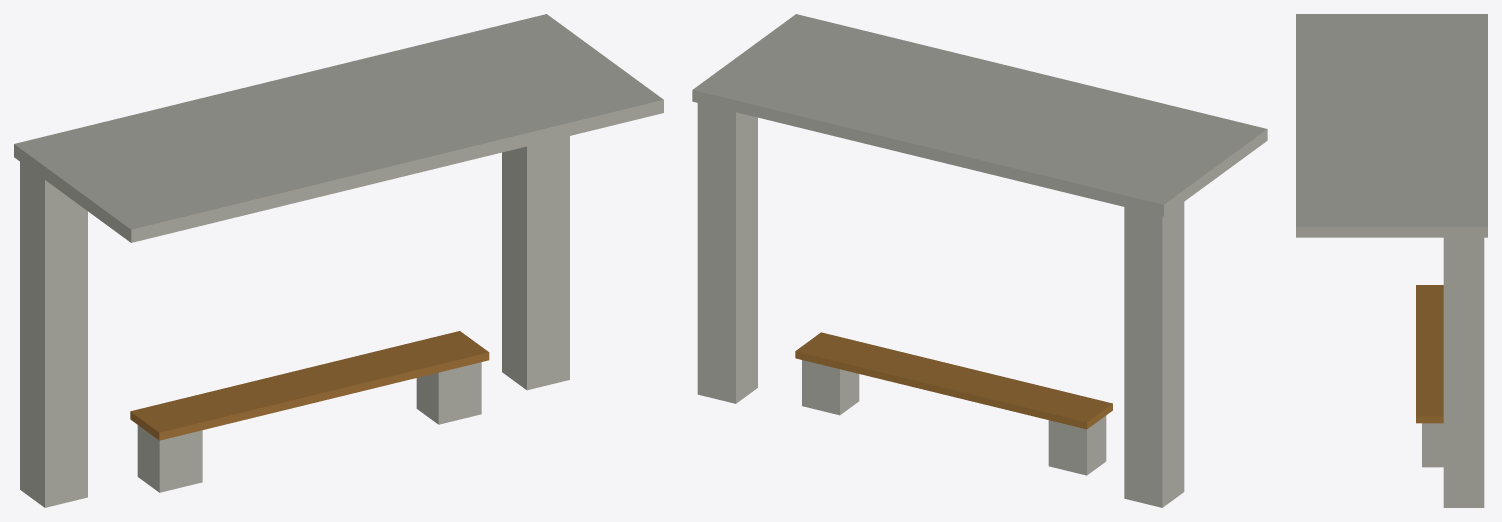
File: SM_ParadaBus_v1_SinCristales_LOD1.fbx
3 renders of one model, left to right at view 1: azimuth 30°, elevation 25°; view 2: azimuth 150°, elevation 25°; view 3: azimuth 270°, elevation 25°, orthographic. The views are drawn at different scales.
Parts seen in each view (by area): view 1: SM_urbano_extra_v6_LOD1; view 2: SM_urbano_extra_v6_LOD1; view 3: SM_urbano_extra_v6_LOD1.
Boxes of the visible parts, <box> form: SM_urbano_extra_v6_LOD1: <box>14,14,663,507</box>; SM_urbano_extra_v6_LOD1: <box>692,14,1267,507</box>; SM_urbano_extra_v6_LOD1: <box>1296,14,1487,507</box>.
Bounding box in the file's own units: 4.2 × 2.6 × 1.6.
